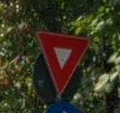cedeaza: (37, 31, 93, 97)
